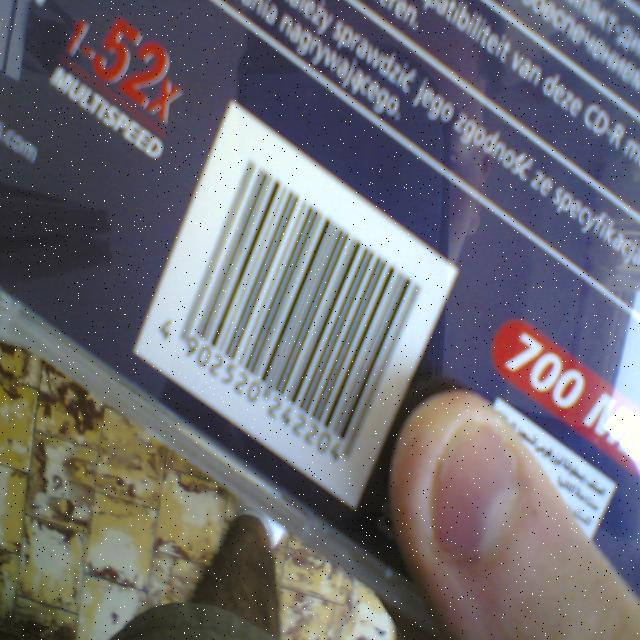barcode: (135, 102, 458, 508)
